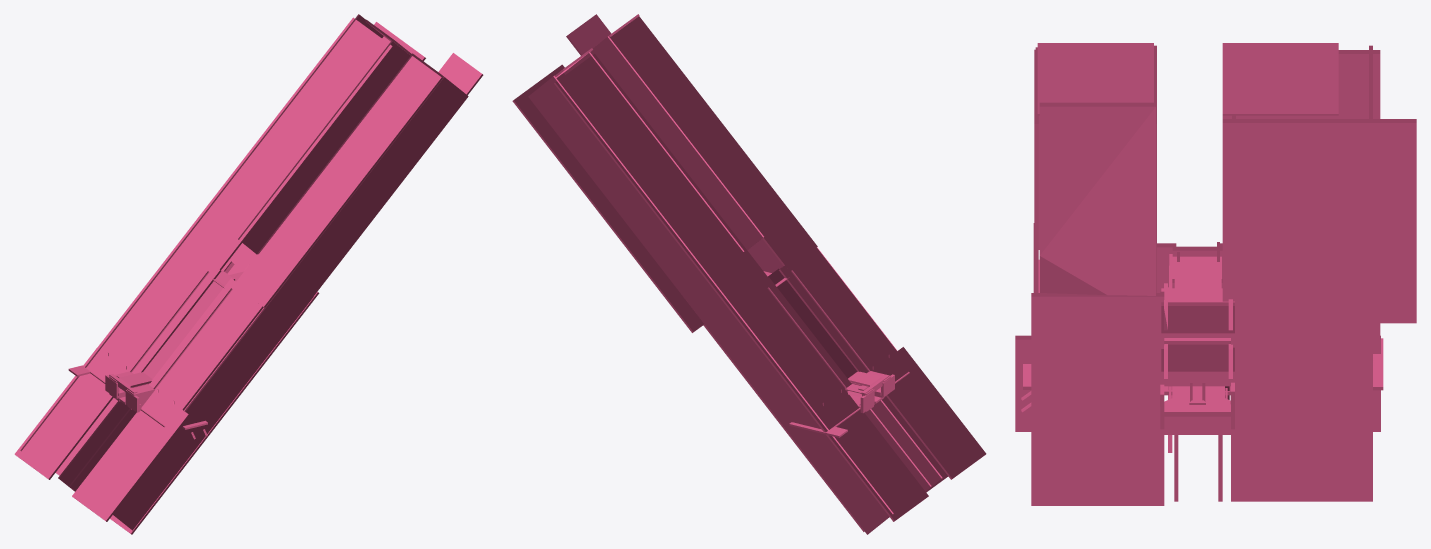
The model's file is trainstation_foyer_a.glb.
3 renders of one model, left to right at view 1: azimuth 30°, elevation 25°; view 2: azimuth 150°, elevation 25°; view 3: azimuth 270°, elevation 25°, orthographic. The views are drawn at different scales.
Bounding box in the file's own units: 213 × 204 × 96.64.
